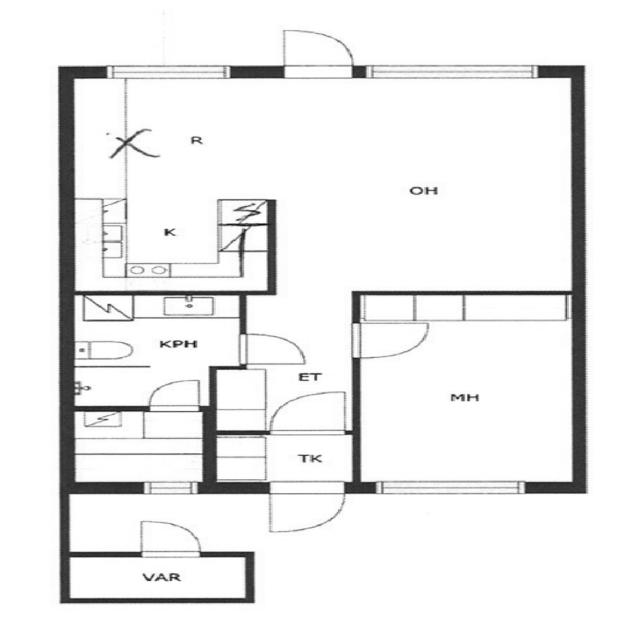door: (255, 479, 353, 538), (258, 387, 358, 439), (270, 26, 362, 81), (341, 318, 441, 362), (126, 516, 214, 561), (224, 328, 316, 371), (140, 375, 208, 414)
window: (358, 59, 547, 84), (365, 475, 536, 500), (94, 60, 242, 83), (128, 479, 208, 498)
zone: (55, 78, 581, 287), (352, 293, 586, 489), (72, 107, 277, 288), (64, 291, 240, 410), (65, 409, 215, 490), (58, 556, 255, 602), (211, 430, 357, 491)
